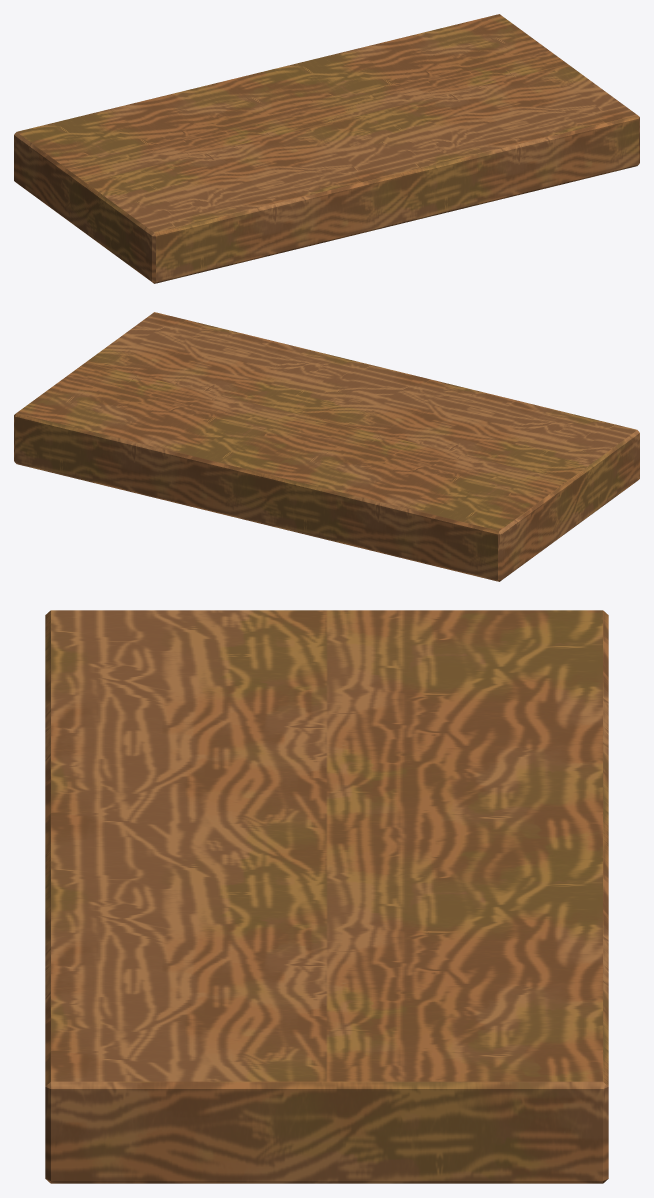
The model's file is floor_2x1.gltf.
3 renders of one model, top to bottom at view 1: azimuth 30°, elevation 25°; view 2: azimuth 150°, elevation 25°; view 3: azimuth 270°, elevation 25°, orthographic. The views are drawn at different scales.
Visible parts, largest first — view 1: floor_2x1; view 2: floor_2x1; view 3: floor_2x1.
Part boxes in pixels (x1,y1,x2,y2): floor_2x1: [14, 14, 639, 283]; floor_2x1: [14, 312, 639, 581]; floor_2x1: [45, 610, 608, 1183].
Size of the model in its own units: 2 by 0.2 by 1.
Materials: 1 (1 with a texture image).
